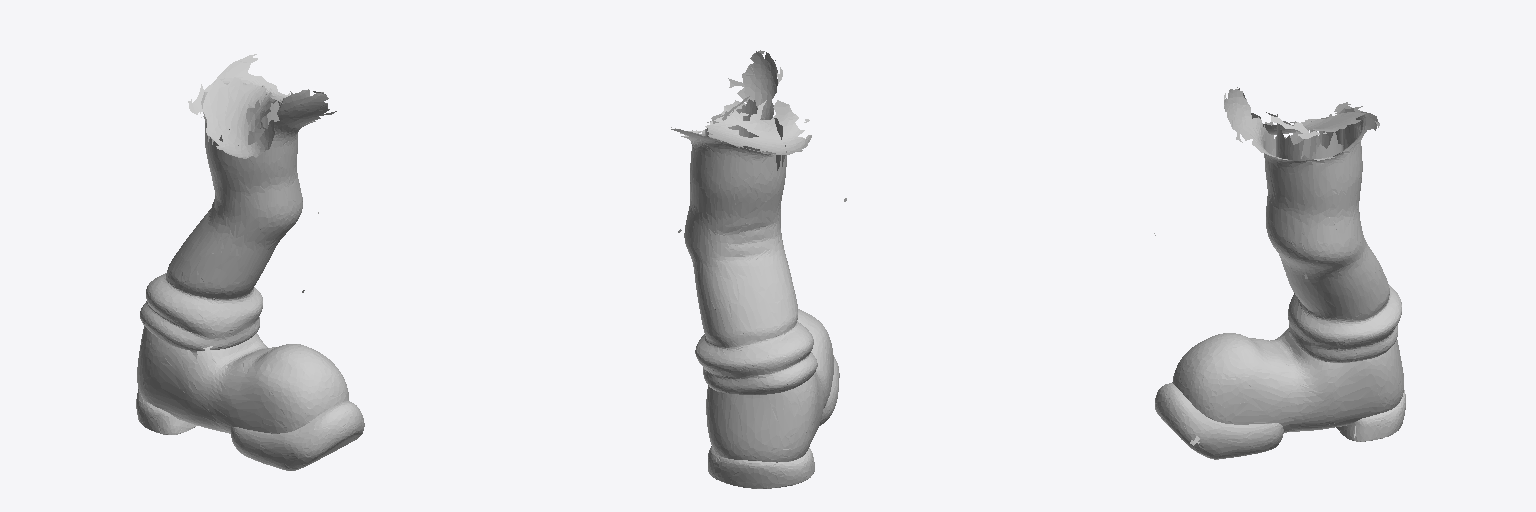
File: zombie_left_leg.obj
3 views of the same model, side by side, from view 1: azimuth 30°, elevation 25°; view 2: azimuth 150°, elevation 25°; view 3: azimuth 270°, elevation 25° (orthographic).
Parts seen in each view (by area): view 1: zombie_left_leg.001_Buckethead_Zombie_without_base.040; view 2: zombie_left_leg.001_Buckethead_Zombie_without_base.040; view 3: zombie_left_leg.001_Buckethead_Zombie_without_base.040.
Part boxes in pixels (x1,y1,x2,y2): zombie_left_leg.001_Buckethead_Zombie_without_base.040: (136, 54, 364, 470); zombie_left_leg.001_Buckethead_Zombie_without_base.040: (671, 50, 846, 488); zombie_left_leg.001_Buckethead_Zombie_without_base.040: (1154, 87, 1405, 459).
Bounding box in the file's own units: 16.14 × 35.71 × 22.84.